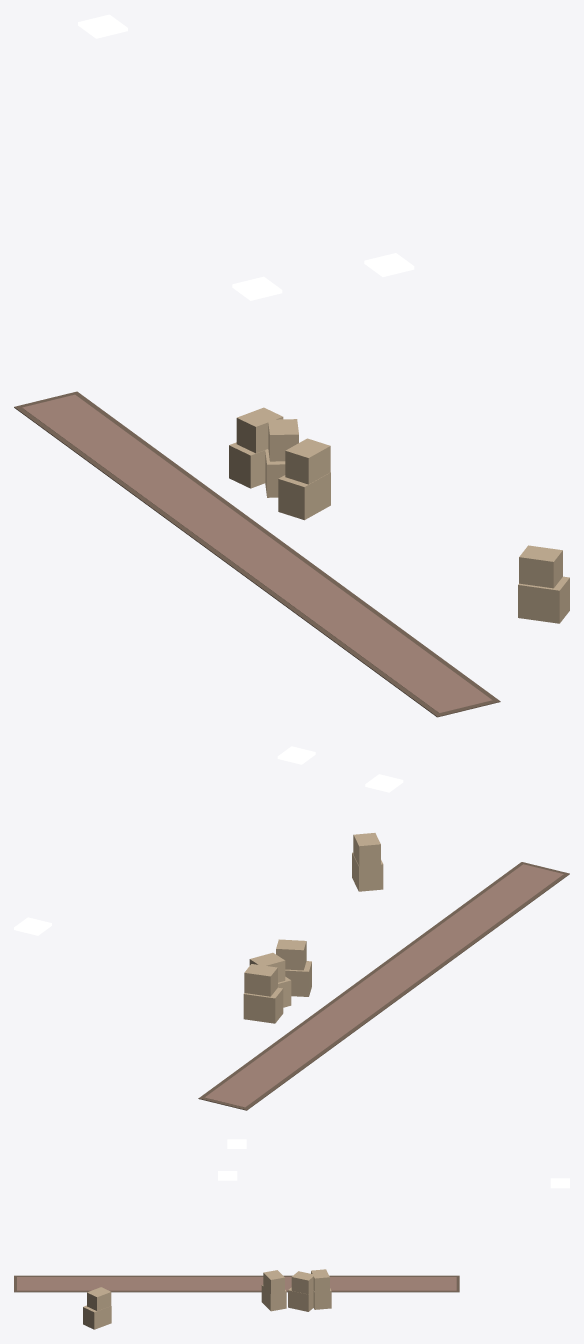
Rendered from fine-s0.glb.
3 renders of one model, top to bottom at view 1: azimuth 30°, elevation 25°; view 2: azimuth 150°, elevation 25°; view 3: azimuth 270°, elevation 25°, orthographic. The views are drawn at different scales.
Visible parts, largest first — view 1: soft-s0, crate.000, cardboard-box.002, cardboard-box.000, cardboard-box.001; view 2: soft-s0, cardboard-box.000, cardboard-box.002, crate.000, cardboard-box.001; view 3: soft-s0, cardboard-box.002, cardboard-box.001, crate.000, cardboard-box.000.
Part boxes in pixels (box(x1,y1,x2,y2)): soft-s0: box(14, 391, 500, 717); crate.000: box(278, 438, 330, 520); cardboard-box.002: box(518, 545, 569, 623); cardboard-box.000: box(229, 407, 283, 488); cardboard-box.001: box(265, 419, 298, 497); soft-s0: box(198, 862, 569, 1110); cardboard-box.000: box(243, 964, 283, 1023); cardboard-box.002: box(352, 833, 383, 891); crate.000: box(276, 939, 311, 996); cardboard-box.001: box(249, 952, 291, 1007); soft-s0: box(14, 1275, 459, 1292); cardboard-box.002: box(83, 1287, 111, 1329); cardboard-box.001: box(288, 1271, 313, 1311); crate.000: box(261, 1270, 286, 1311); cardboard-box.000: box(311, 1269, 331, 1309).
Size of the model in its own units: 3.31 by 4.05 by 14.46.
